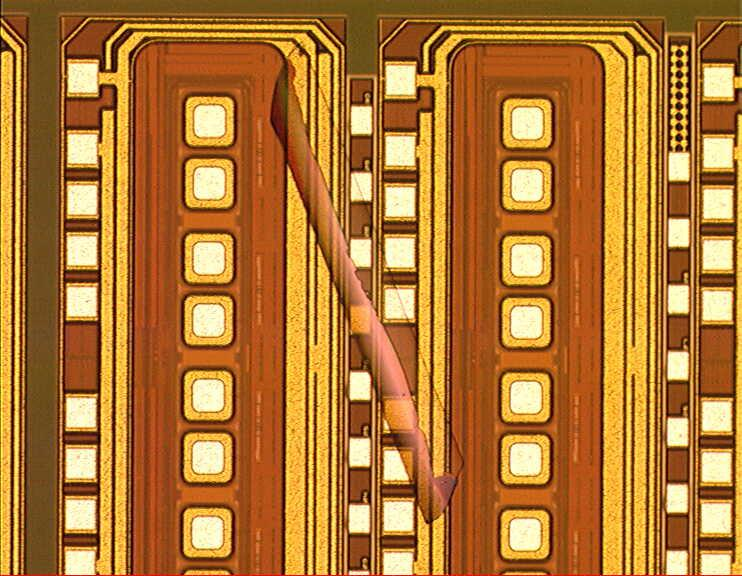BLOCK ETCH: (271, 42, 466, 525)
